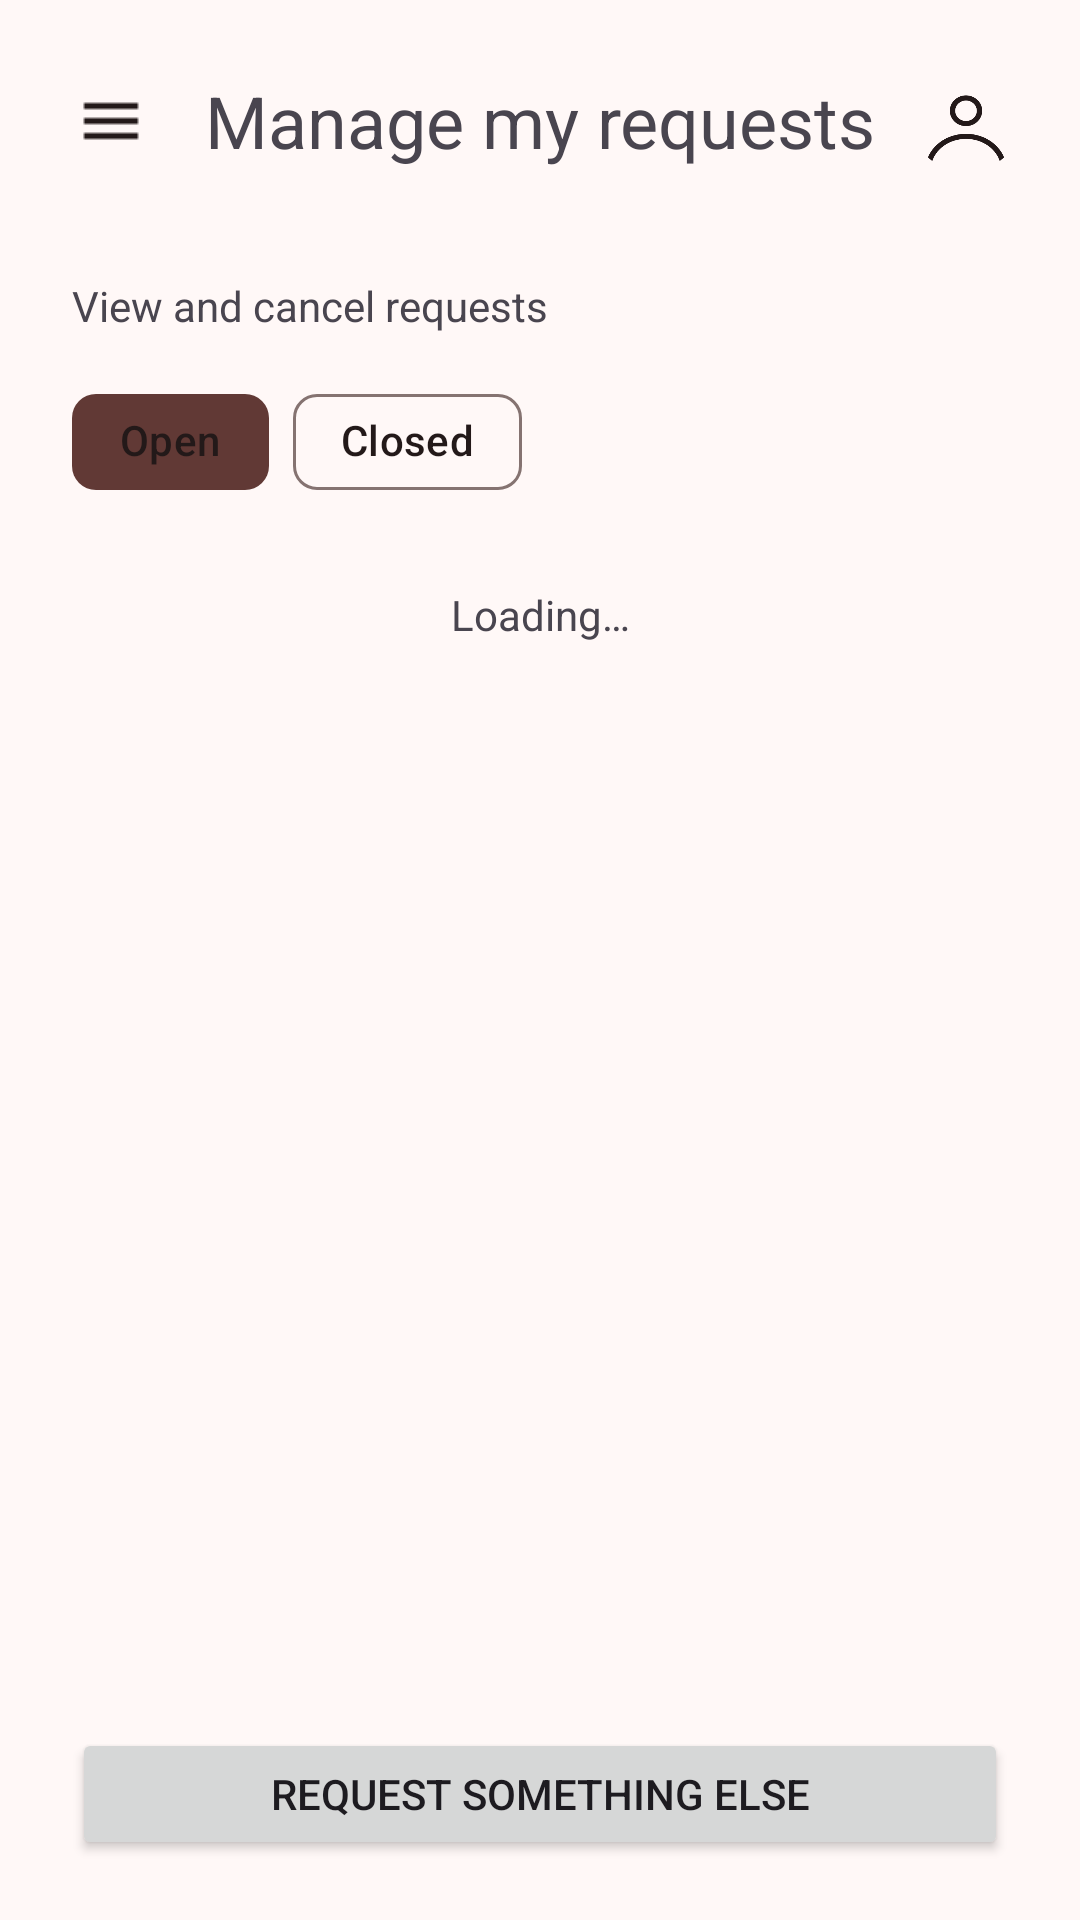

Where icons sit on this 1080×1920 app screen, as (x1=x1, y1=y1, x2=x2, y2=y2):
menu: (x1=83, y1=102, x2=139, y2=140)
